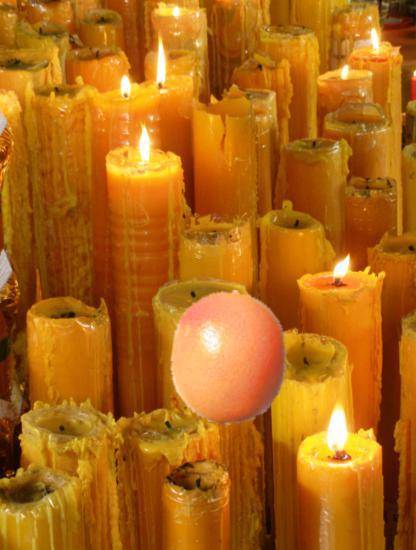Grapefruit: (162, 290, 297, 425)
